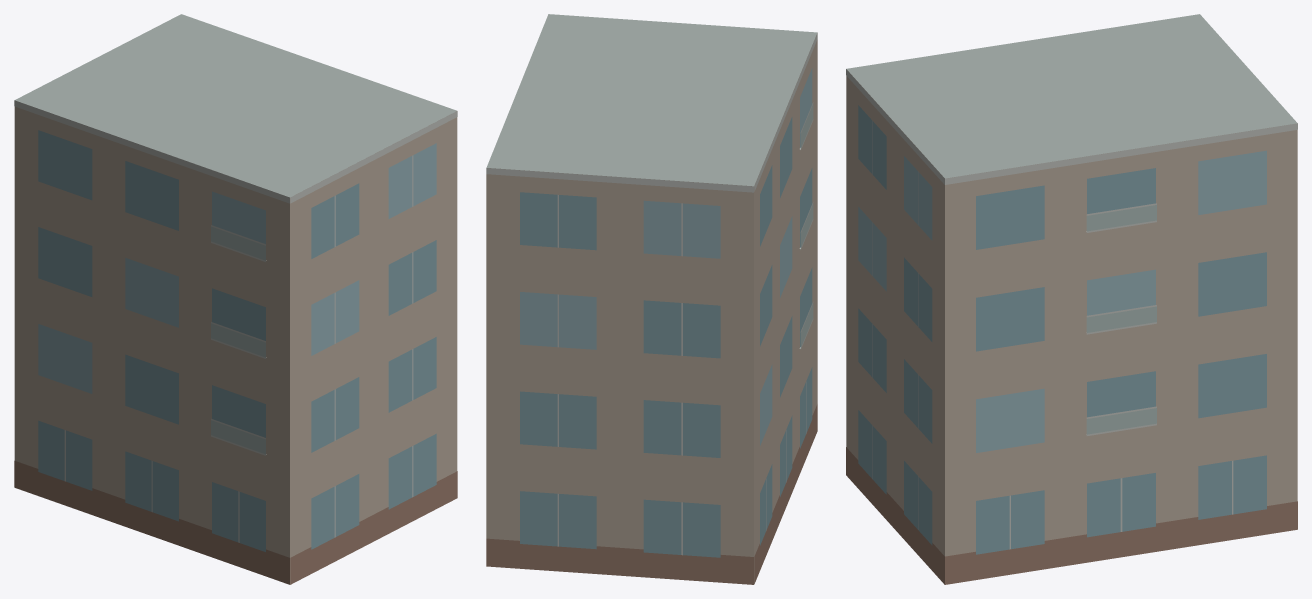
Rendered from survey-upis-32802008.glb.
The picture shows the model from 3 angles, left to right: view 1: azimuth 30°, elevation 25°; view 2: azimuth 150°, elevation 25°; view 3: azimuth 270°, elevation 25°; orthographic projection. The views are drawn at different scales.
Visible parts, largest first — view 1: survey-upis-32802008.tmp; view 2: survey-upis-32802008.tmp; view 3: survey-upis-32802008.tmp.
Part boxes in pixels (box(x1,y1,x2,y2)): survey-upis-32802008.tmp: box(14, 14, 457, 584); survey-upis-32802008.tmp: box(486, 14, 817, 584); survey-upis-32802008.tmp: box(846, 14, 1297, 584).
Bounding box in the file's own units: 13.27 × 15.27 × 15.39.
